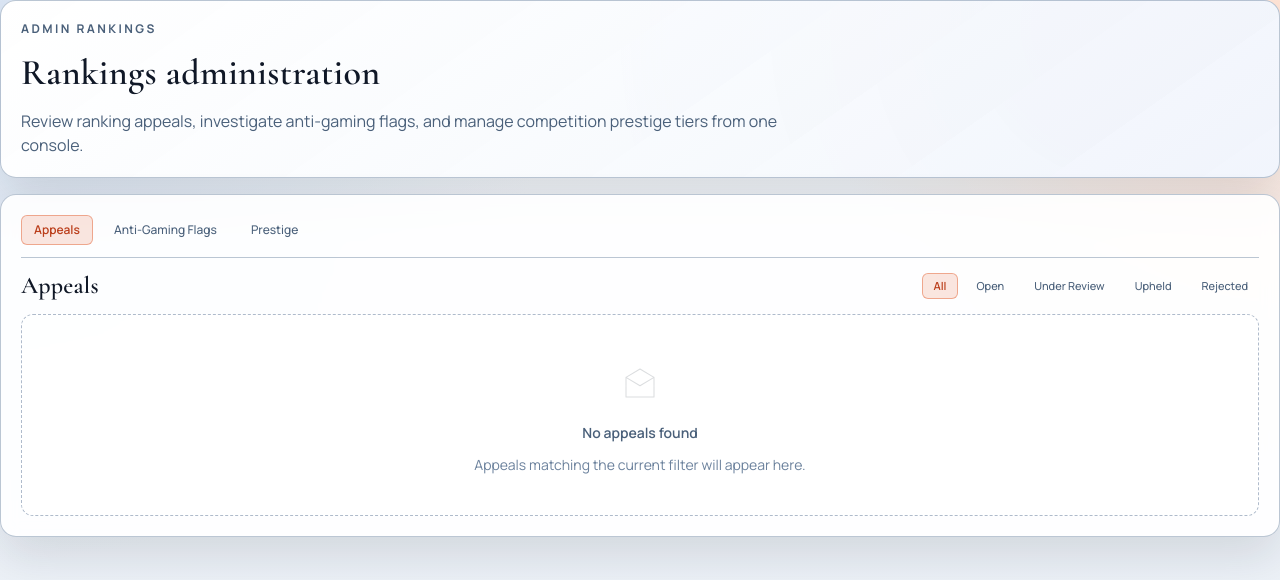
it: AdminRankingsPage › shows flags ApiError message and non-ApiError fallback
Expected: the heading "Rankings administration" is shown, [21, 51, 380, 94]
Click the button "Anti-Gaming Flags" at {"x": 165, "y": 230}, box [101, 215, 230, 245]
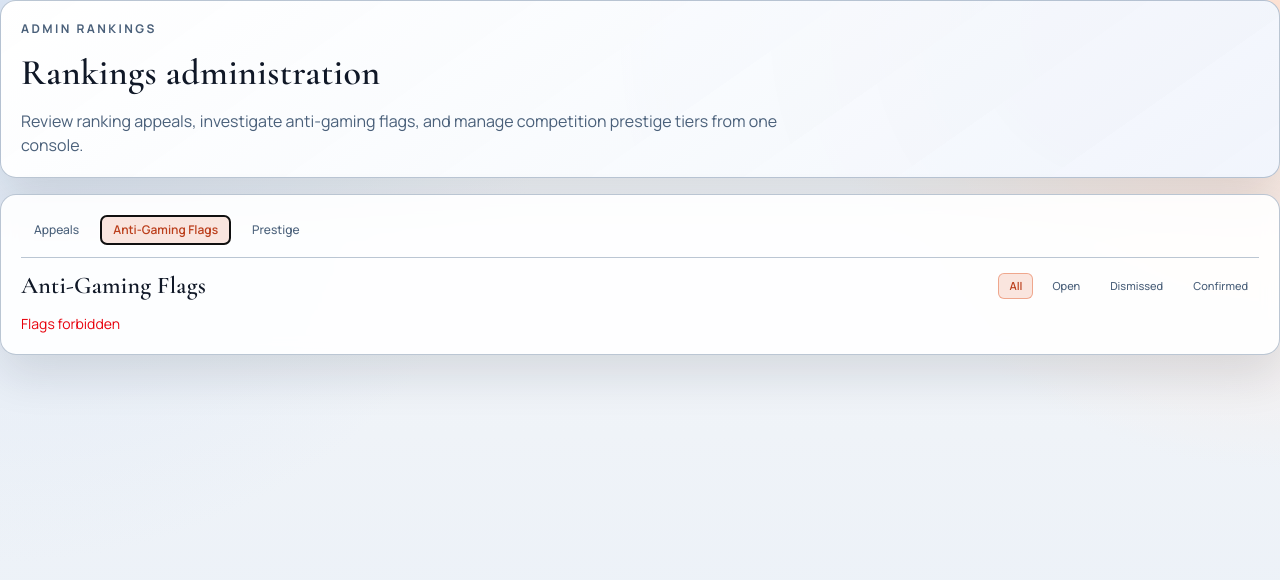
Now the text "Flags forbidden" is shown, box [21, 314, 120, 333]
